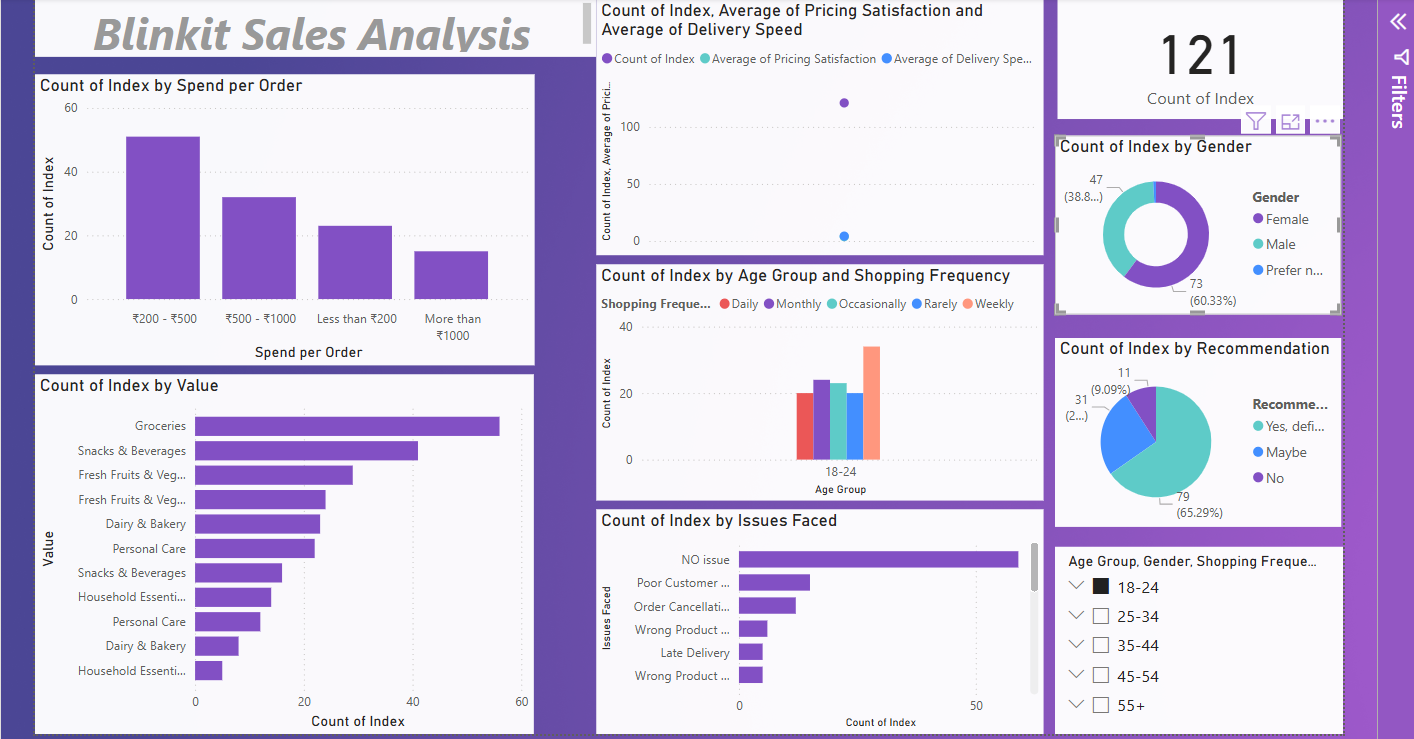

The dashboard page shown, as its layout file describes it:
{"tool":"powerbi","page":{"name":"Page 1","canvas":[1280,720],"ordinal":0},"visuals":[{"type":"card","fields":{"Values":["Count(Sheet1 (2).Index)"]},"box":[1000.3,8.6,280,118.6],"z":0},{"type":"donutChart","fields":{"Category":["Sheet1 (2).Gender"],"Y":["Count(Sheet1 (2).Index)"]},"box":[999.1,141.8,280,174.9],"z":1000},{"type":"clusteredColumnChart","fields":{"Category":["Sheet1 (2).Age Group"],"Series":["Sheet1 (2).Shopping Frequency"],"Y":["Count(Sheet1 (2).Index)"]},"box":[549.1,260.5,437.8,231.1],"z":3000},{"type":"lineStackedColumnComboChart","fields":{"Category":["Sheet1 (2).Spend per Order"],"Y":["Count(Sheet1 (2).Index)"]},"box":[0,74.6,489.1,284.9],"z":4000},{"type":"clusteredBarChart","fields":{"Category":["Sheet1 (2).Value"],"Y":["Count(Sheet1 (2).Index)"]},"box":[0,368.1,487.9,352.2],"z":5000},{"type":"lineChart","fields":{"Y":["Count(Sheet1 (2).Index)","Avg(Sheet1 (2).Pricing Satisfaction)","Avg(Sheet1 (2).Delivery Speed)"]},"box":[549.1,1.2,437.8,250.7],"z":7000},{"type":"clusteredBarChart","fields":{"Category":["Sheet1 (2).Issues Faced"],"Y":["Count(Sheet1 (2).Index)"]},"box":[549.1,500.1,437.8,220.1],"z":8000},{"type":"pieChart","fields":{"Category":["Sheet1 (2).Recommendation"],"Y":["Count(Sheet1 (2).Index)"]},"box":[1000.3,335.1,280,184.6],"z":9000},{"type":"slicer","fields":{"Values":["Sheet1 (2).Age Group","Sheet1 (2).Gender","Sheet1 (2).Shopping Frequency"]},"box":[997.8,536.8,282.5,183.4],"z":10000},{"type":"textbox","box":[0,0,549.1,57.5],"z":12000}]}

Visuals, with their boxes in screenshot pixels (x1, y1, x2, y2):
card - Count(Sheet1 (2).Index): (1051, 9, 1335, 129)
donutChart - Sheet1 (2).Gender x Count(Sheet1 (2).Index): (1050, 144, 1334, 321)
clusteredColumnChart - Sheet1 (2).Age Group x Sheet1 (2).Shopping Frequency: (593, 264, 1037, 498)
lineStackedColumnComboChart - Sheet1 (2).Spend per Order x Count(Sheet1 (2).Index): (37, 76, 533, 364)
clusteredBarChart - Sheet1 (2).Value x Count(Sheet1 (2).Index): (37, 373, 531, 730)
lineChart - Count(Sheet1 (2).Index) x Avg(Sheet1 (2).Pricing Satisfaction): (593, 1, 1037, 255)
clusteredBarChart - Sheet1 (2).Issues Faced x Count(Sheet1 (2).Index): (593, 507, 1037, 730)
pieChart - Sheet1 (2).Recommendation x Count(Sheet1 (2).Index): (1051, 340, 1335, 527)
slicer - Sheet1 (2).Age Group x Sheet1 (2).Gender: (1048, 544, 1335, 730)
textbox: (37, 0, 593, 58)
